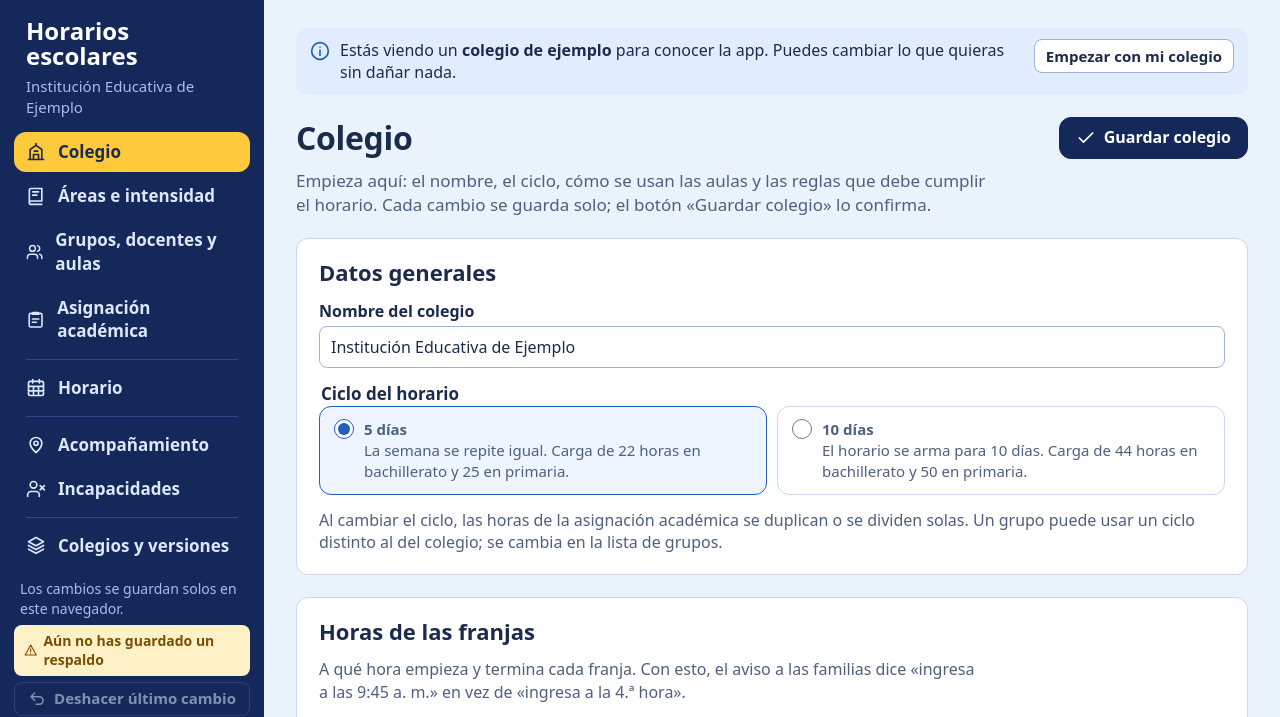
Scenario: pantalla de incapacidades › sin horario explica que primero hay que generarlo
The width and height of the screenshot is (1280, 717).
Click the button "Incapacidades" at (132, 489), box [14, 469, 250, 509]
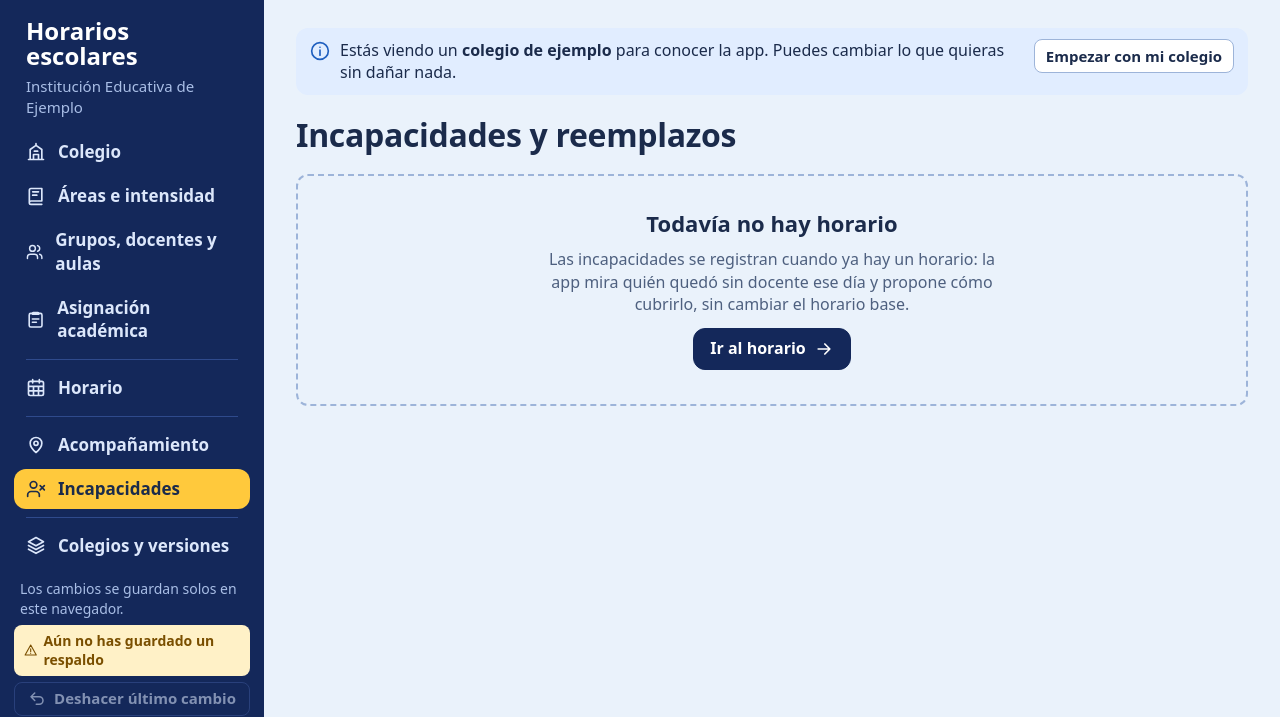
Result: the text "se registran cuando ya hay un horario" is shown at [549, 248, 995, 315]
